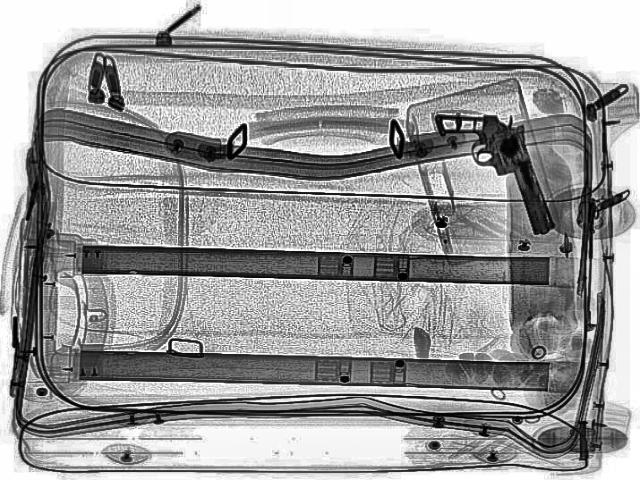Gun: (428, 98, 568, 246)
